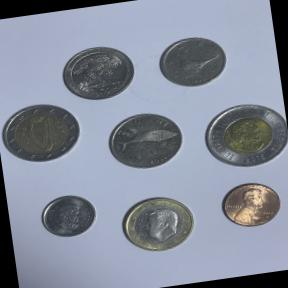coin: (194, 92, 288, 180), (98, 102, 192, 182), (113, 186, 204, 259), (0, 96, 86, 173), (56, 36, 142, 108), (213, 174, 288, 234), (34, 188, 102, 243)
